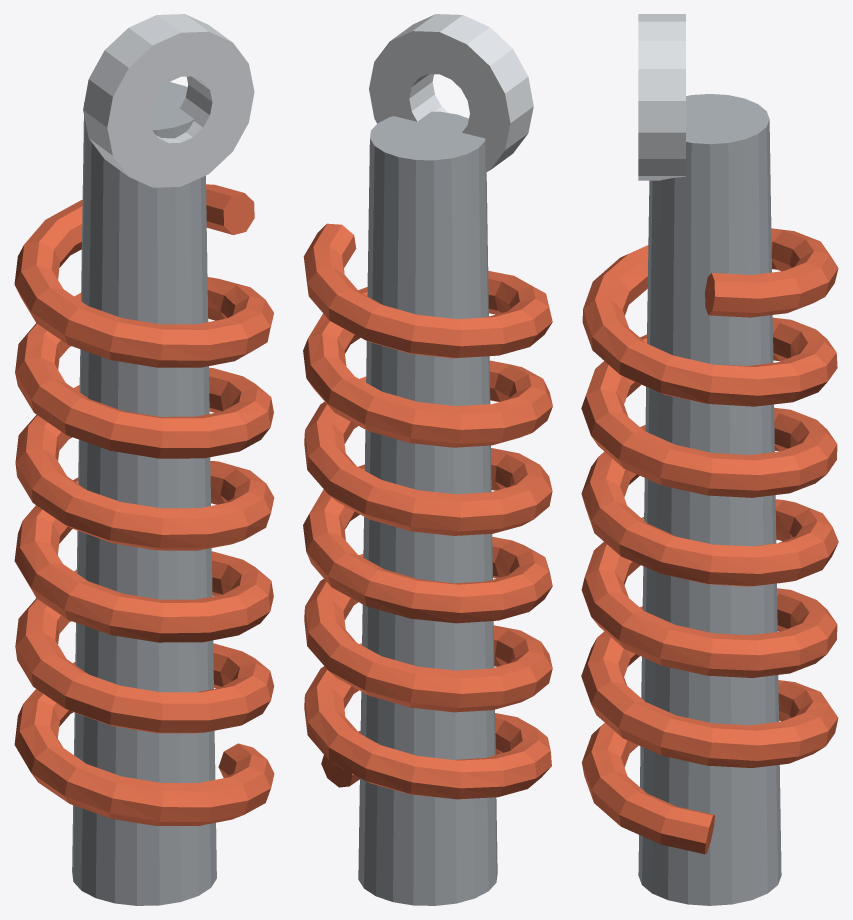
Rendered from motorcycle-racing-and-street-bikes-rear-shock-absorber-e61a7658__15467.glb.
3 views of the same model, side by side, from view 1: azimuth 30°, elevation 25°; view 2: azimuth 150°, elevation 25°; view 3: azimuth 270°, elevation 25° (orthographic). The views are drawn at different scales.
Visible parts, largest first — view 1: rear-shock-absorber; view 2: rear-shock-absorber; view 3: rear-shock-absorber.
Boxes of the visible parts, <box> form: rear-shock-absorber: <box>14,14,274,905</box>; rear-shock-absorber: <box>303,14,552,905</box>; rear-shock-absorber: <box>581,14,838,905</box>.
Size of the model in its own units: 0.108 by 0.395 by 0.108.
